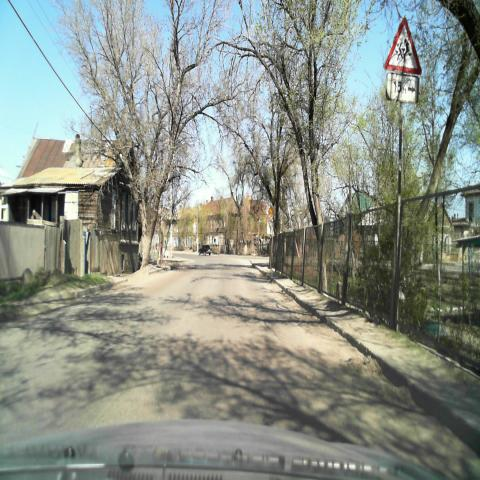8_1_3: (386, 73, 419, 103)
